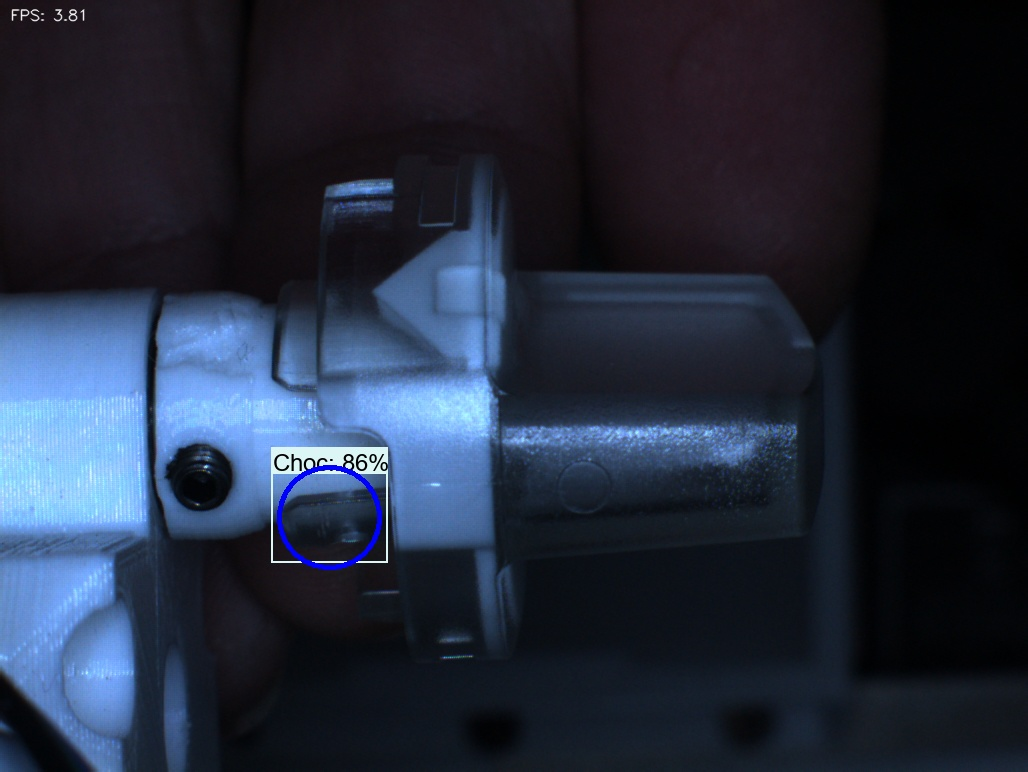DentOk: (359, 249, 424, 350)
